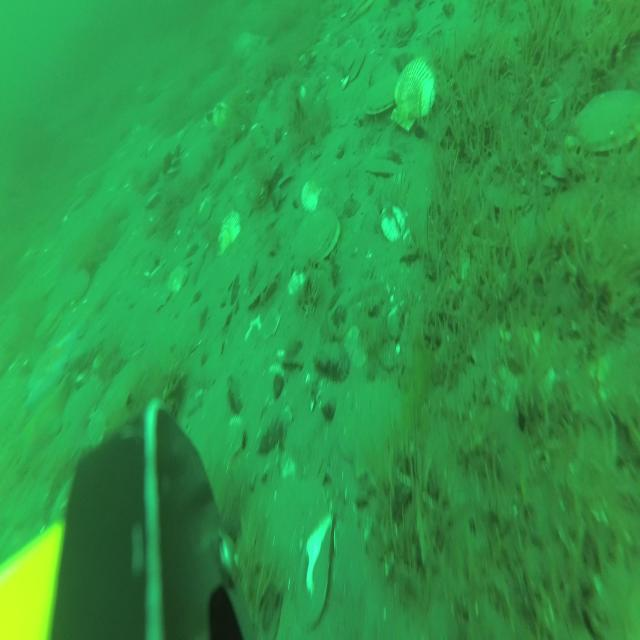scallop: (564, 90, 640, 154), (295, 206, 340, 270), (392, 64, 434, 126), (365, 69, 399, 113), (379, 203, 410, 240), (342, 49, 364, 91), (36, 307, 61, 341), (218, 214, 240, 252), (337, 37, 356, 80), (72, 263, 90, 305), (199, 187, 218, 226), (350, 0, 374, 26), (169, 266, 187, 298), (300, 179, 318, 209), (213, 102, 230, 130)
starfish: (28, 328, 80, 423)
